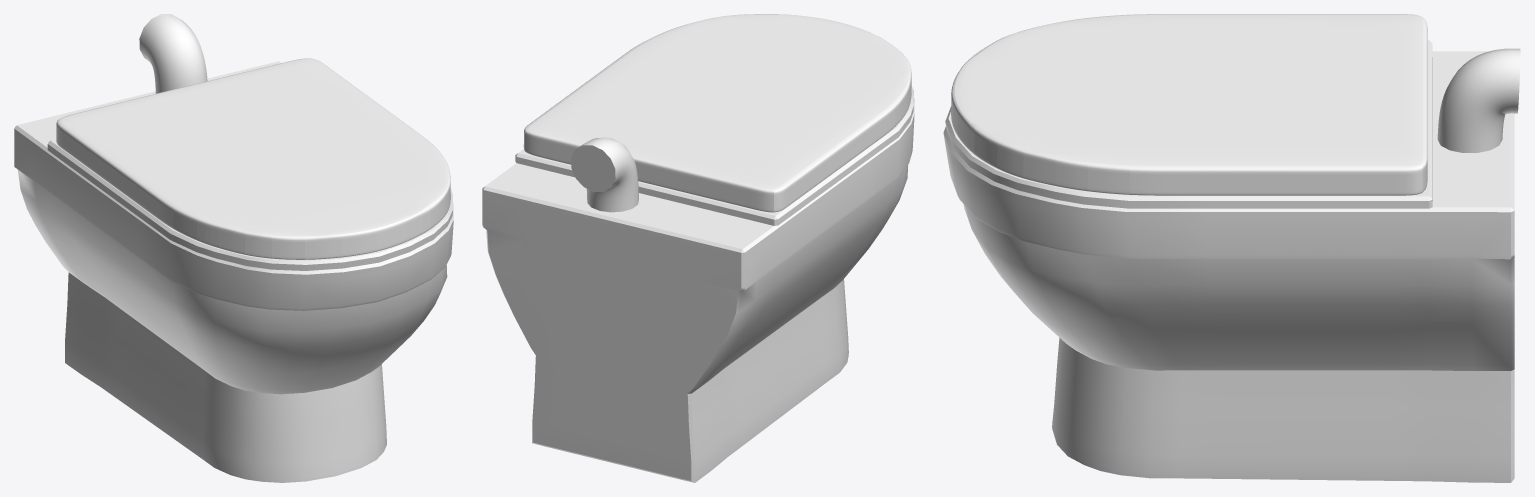
Rendered from FlushingToilet.glb.
3 views of the same model, side by side, from view 1: azimuth 30°, elevation 25°; view 2: azimuth 150°, elevation 25°; view 3: azimuth 270°, elevation 25° (orthographic). The views are drawn at different scales.
Parts seen in each view (by area): view 1: Tasa2; view 2: Tasa2; view 3: Tasa2.
Part boxes in pixels (left/top/right/bottom): Tasa2: left=14, top=14, right=453, bottom=482; Tasa2: left=482, top=14, right=914, bottom=482; Tasa2: left=943, top=14, right=1520, bottom=482.
Bounding box in the file's own units: 37.09 × 42.69 × 56.83.
1 material, 1 textured.
